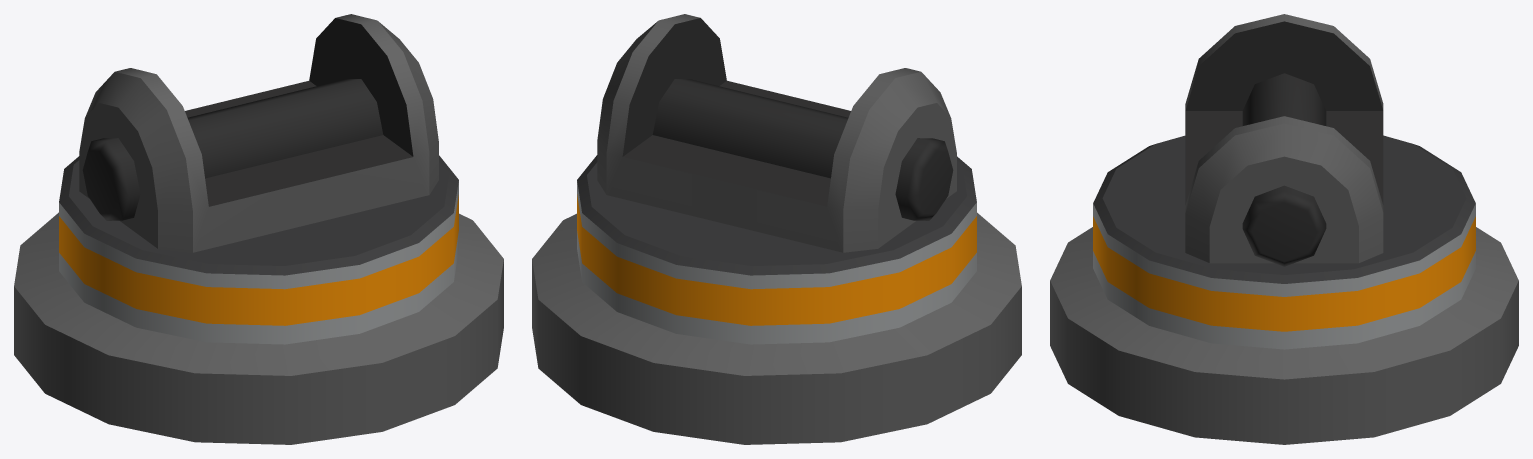
Rendered from Turret_001_Part_01.fbx.
3 renders of one model, left to right at view 1: azimuth 30°, elevation 25°; view 2: azimuth 150°, elevation 25°; view 3: azimuth 270°, elevation 25°, orthographic. The views are drawn at different scales.
Visible parts, largest first — view 1: Turret_001_Part_01; view 2: Turret_001_Part_01; view 3: Turret_001_Part_01.
Part boxes in pixels (x1=…): Turret_001_Part_01: x1=14, y1=14, x2=503, y2=444; Turret_001_Part_01: x1=532, y1=14, x2=1021, y2=444; Turret_001_Part_01: x1=1050, y1=14, x2=1518, y2=444.
Size of the model in its own units: 102 by 102 by 66.63.
